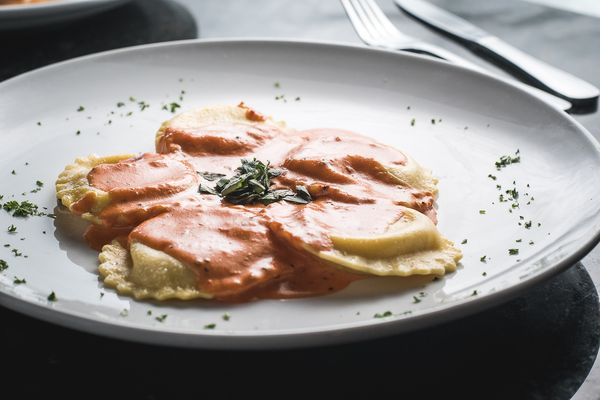burger: (341, 1, 600, 116)
sandwich: (396, 1, 600, 111)
soup: (63, 100, 461, 304)
